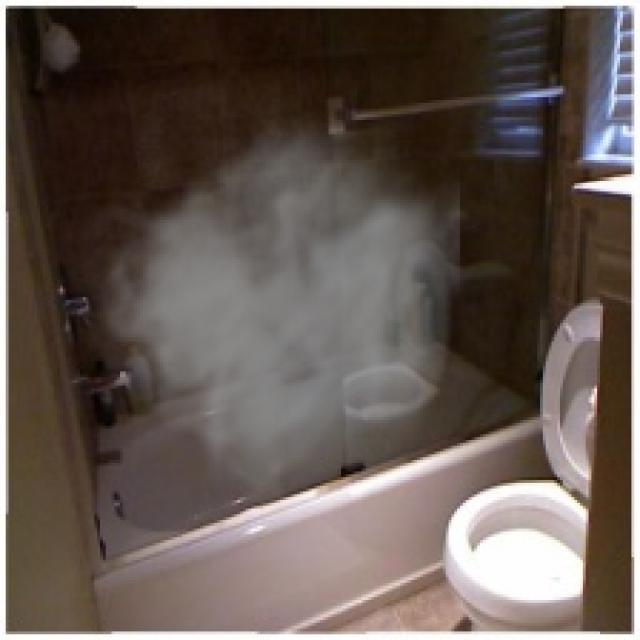smoke: (57, 103, 460, 511)
